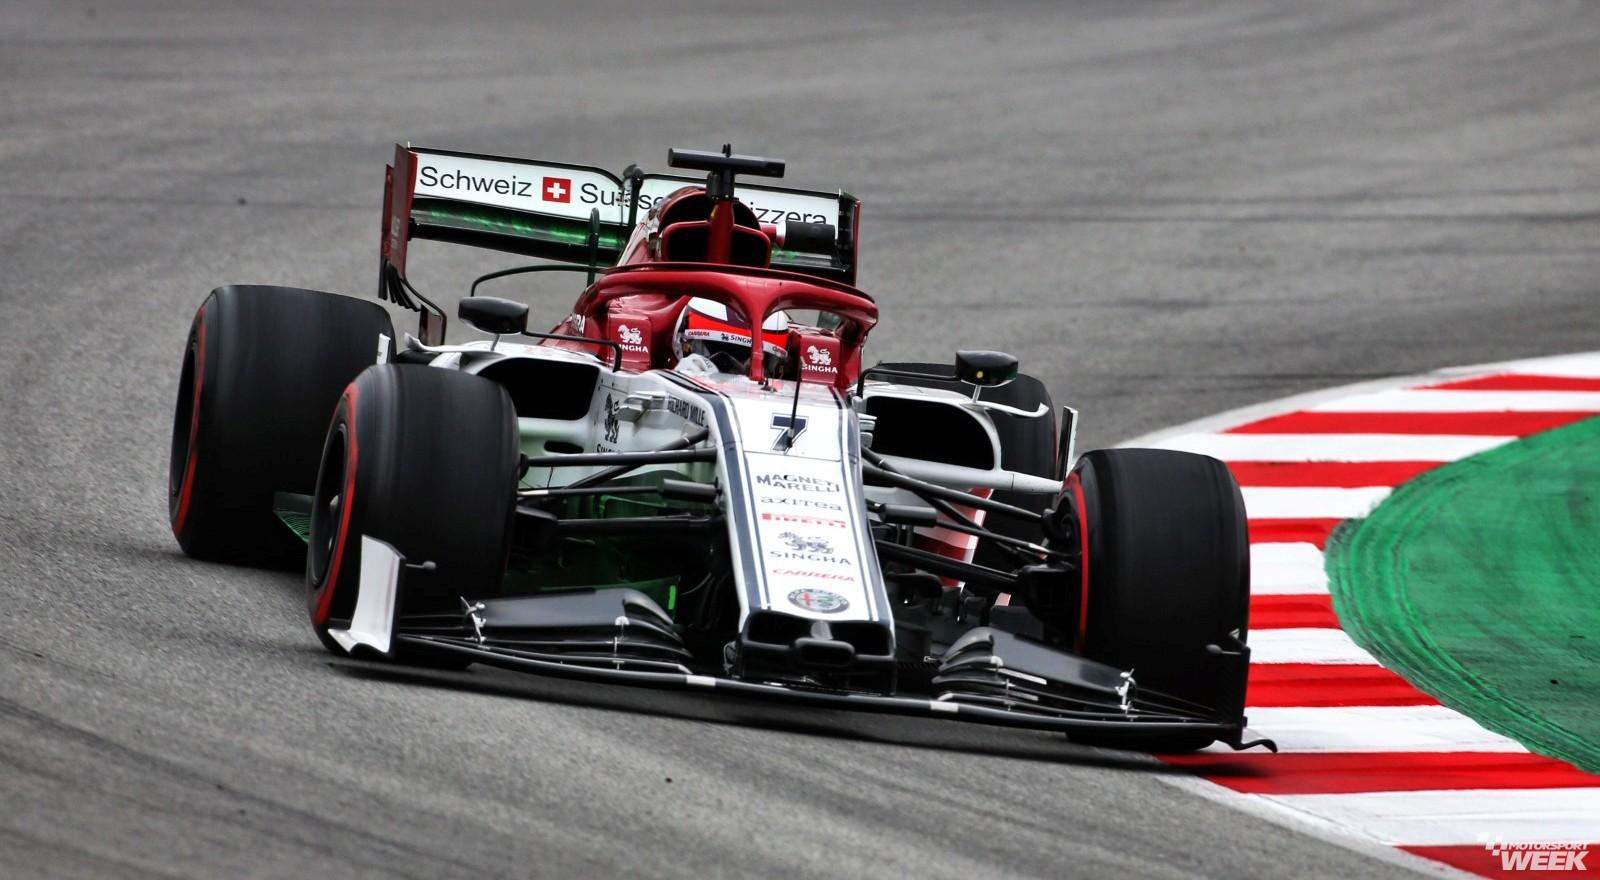F1 Car: (127, 132, 1282, 769)
